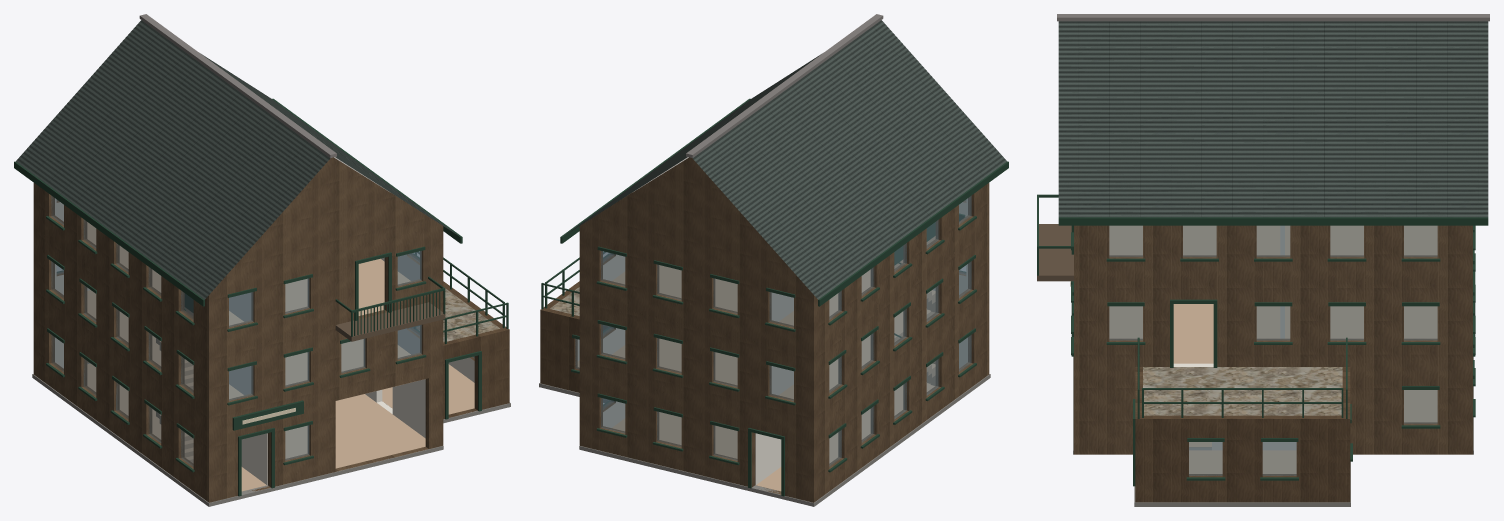
Rendered from rw-boathouse.towns-v1.lod0.glb.
The picture shows the model from 3 angles, left to right: view 1: azimuth 30°, elevation 25°; view 2: azimuth 150°, elevation 25°; view 3: azimuth 270°, elevation 25°; orthographic projection. The views are drawn at different scales.
Visible parts, largest first — view 1: rw-boathouse; view 2: rw-boathouse; view 3: rw-boathouse.
Boxes of the visible parts, x1,y1,x2,y2 form: rw-boathouse: (14,14,510,506); rw-boathouse: (539,14,1008,506); rw-boathouse: (1037,14,1489,506).
Bounding box in the file's own units: 14.63 × 13.44 × 14.75.
Materials: 7 (3 with a texture image).
